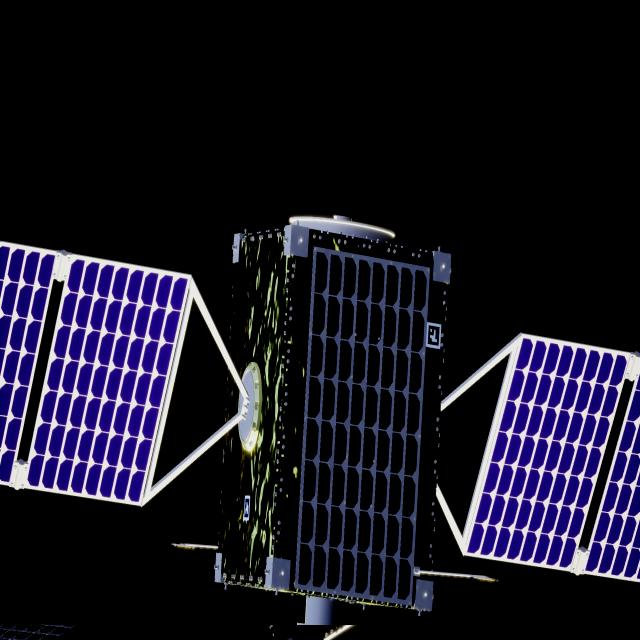medium_debris: (0, 217, 640, 613)
